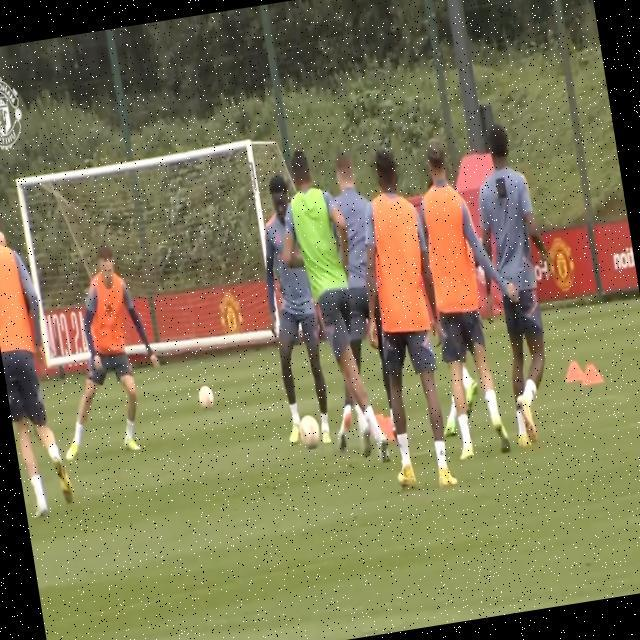Adidas: (101, 300, 116, 319)
